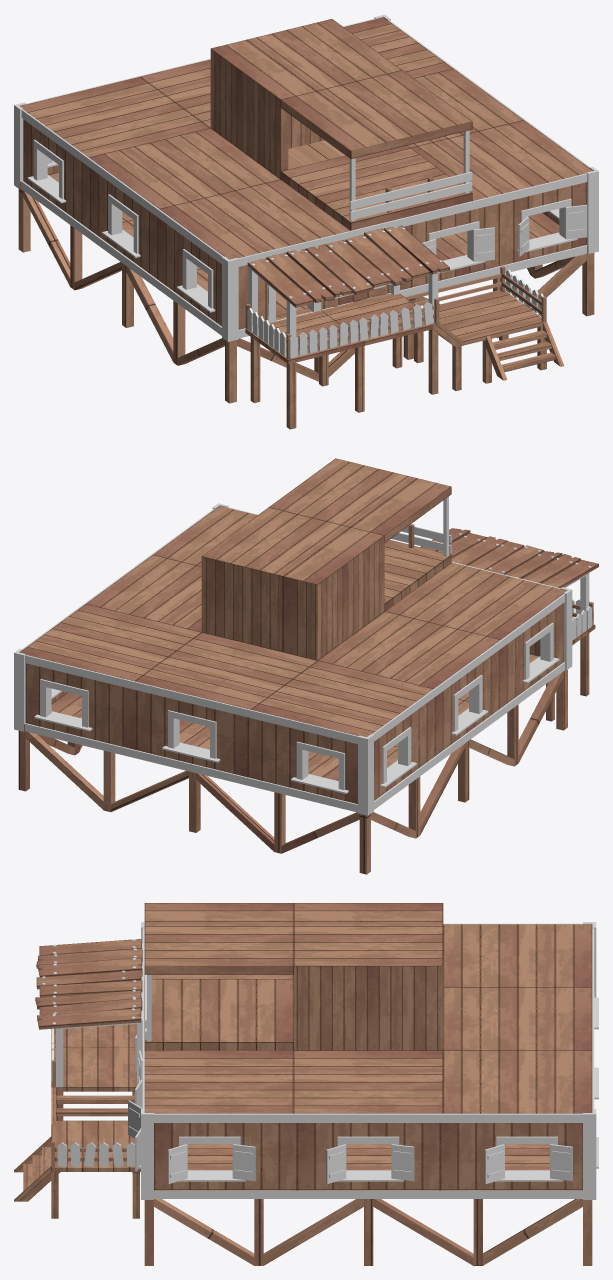
Rendered from TowerGate_Level_01.fbx.
3 views of the same model, one above another, from view 1: azimuth 30°, elevation 25°; view 2: azimuth 150°, elevation 25°; view 3: azimuth 270°, elevation 25° (orthographic). The views are drawn at different scales.
Visible parts, largest first — view 1: TowerGate_Level_01, TowerGate_Level_01.001, Cube.006, Cube.052, Cube.053, Cube.054, Cube, Cube.001, Cube.003, Cube.007, Cube.005, Cube.004 (+7 smaller); view 2: TowerGate_Level_01, Cube.055, Cube.057, Cube.056, TowerGate_Level_01.001, Cube.053, Cube.052, Cube.054, Cube, Cube.001, Cube.003, Cube.005 (+2 smaller); view 3: TowerGate_Level_01, TowerGate_Level_01.001, Cube.008, Cube.002, Cube.004, Cube.059, Cube.060, Cube.058, Cube.003, Cube.001, Cube, Cube.007 (+7 smaller).
Part boxes in pixels (x1,y1,x2,y2): TowerGate_Level_01: [14, 14, 598, 403]; TowerGate_Level_01.001: [245, 247, 564, 429]; Cube.006: [405, 266, 546, 321]; Cube.052: [176, 249, 215, 312]; Cube.053: [102, 194, 140, 257]; Cube.054: [27, 139, 66, 203]; Cube: [247, 258, 313, 307]; Cube.001: [266, 252, 334, 302]; Cube.003: [305, 244, 373, 294]; Cube.007: [364, 228, 430, 279]; Cube.005: [345, 234, 412, 285]; Cube.004: [325, 240, 391, 287]; TowerGate_Level_01: [14, 458, 572, 874]; Cube.055: [291, 741, 348, 793]; Cube.057: [34, 679, 92, 731]; Cube.056: [162, 710, 220, 762]; TowerGate_Level_01.001: [546, 573, 595, 721]; Cube.053: [451, 675, 488, 735]; Cube.052: [522, 623, 559, 683]; Cube.054: [380, 727, 416, 787]; Cube: [541, 559, 598, 588]; Cube.001: [522, 554, 580, 583]; Cube.003: [485, 545, 544, 574]; Cube.005: [451, 536, 507, 565]; TowerGate_Level_01: [141, 903, 596, 1265]; TowerGate_Level_01.001: [14, 943, 142, 1218]; Cube.008: [37, 1008, 141, 1029]; Cube.002: [38, 957, 142, 976]; Cube.004: [39, 980, 142, 996]; Cube.059: [337, 1136, 403, 1181]; Cube.060: [178, 1136, 245, 1181]; Cube.058: [495, 1136, 562, 1181]; Cube.003: [36, 969, 142, 989]; Cube.001: [36, 948, 142, 968]; Cube: [39, 939, 141, 955]; Cube.007: [39, 998, 142, 1015].
Size of the model in its own units: 2525 by 1400 by 3135.
